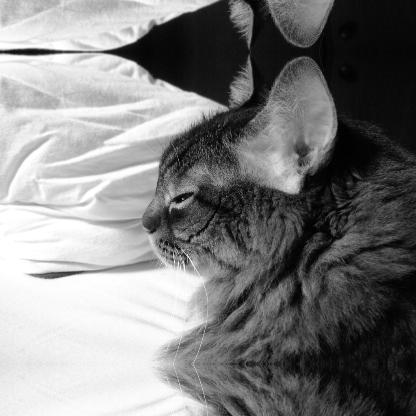Cat: (140, 55, 414, 363)
